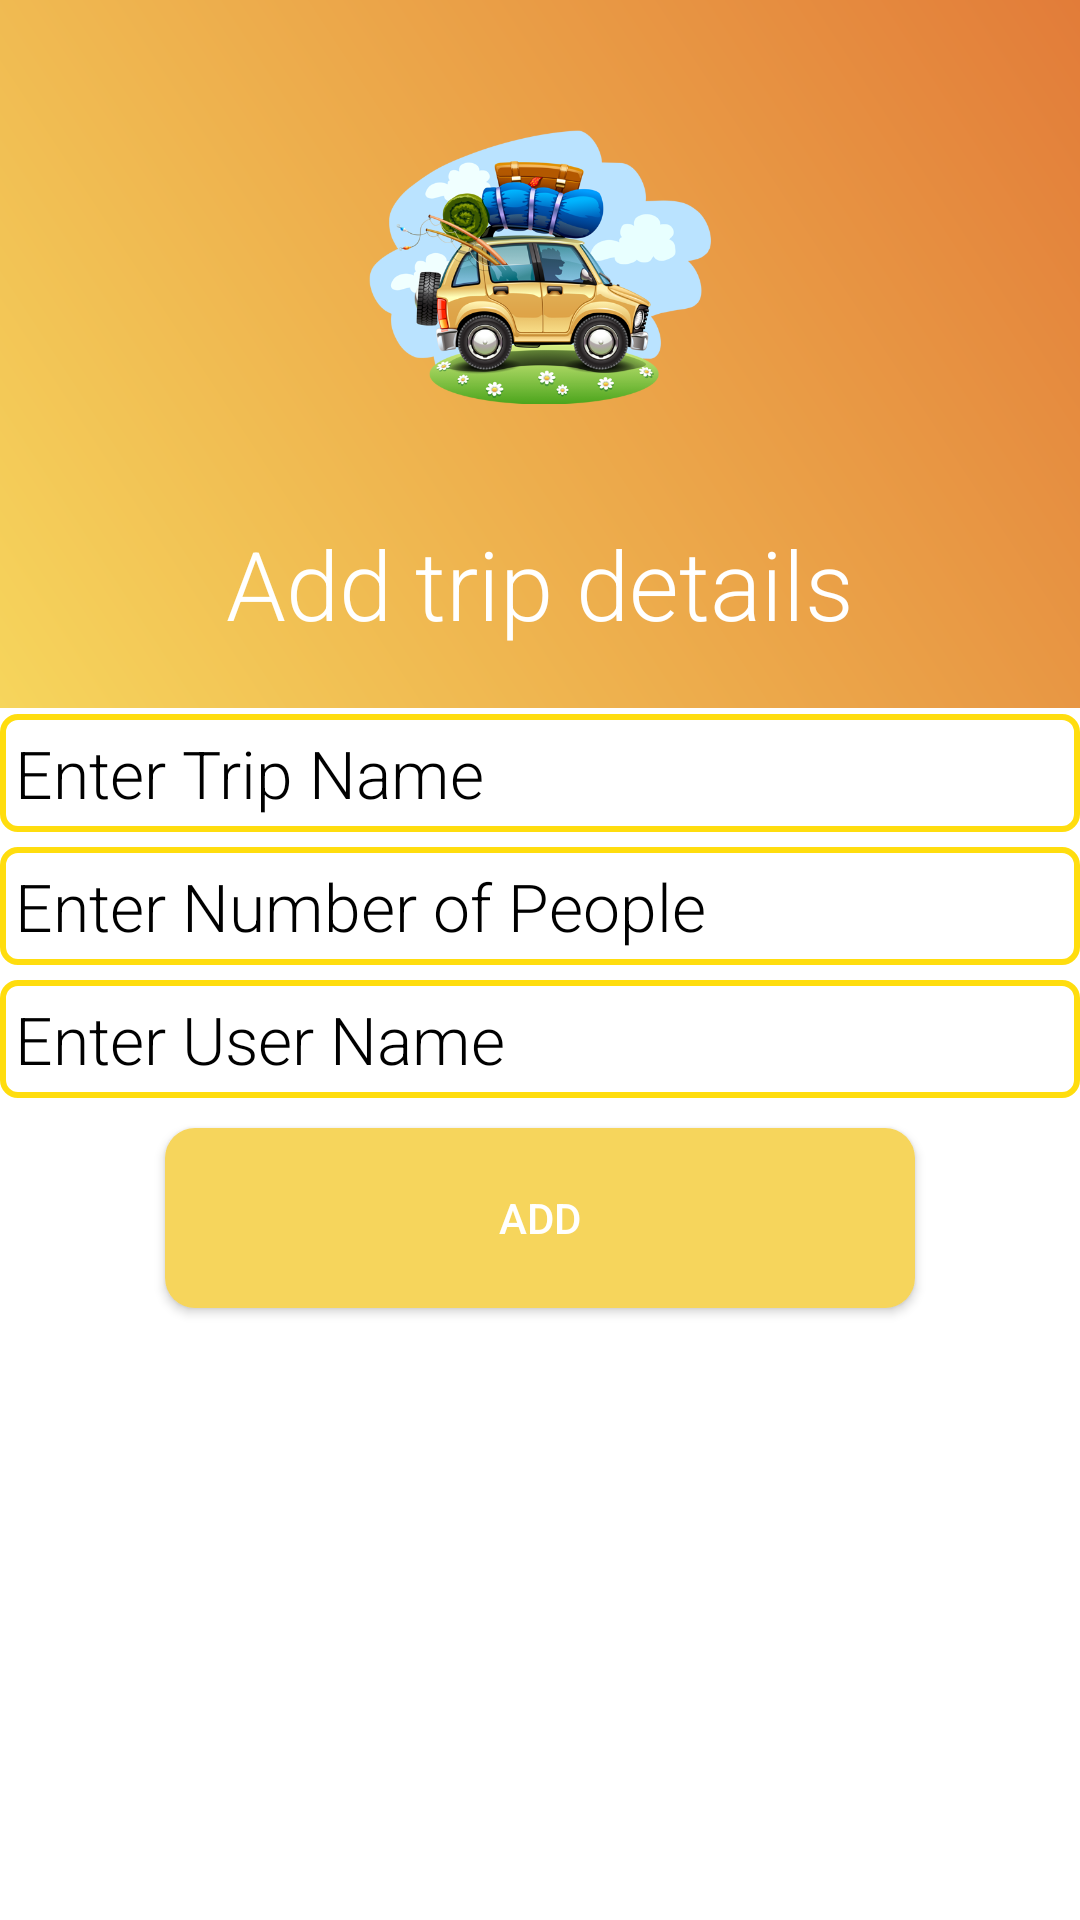

Named icons in this screenshot (1080 × 1920) and their centers, (x,y):
trippic: (540,267)
